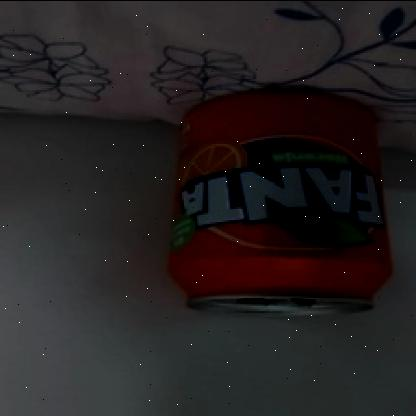Can: (169, 87, 395, 308)
